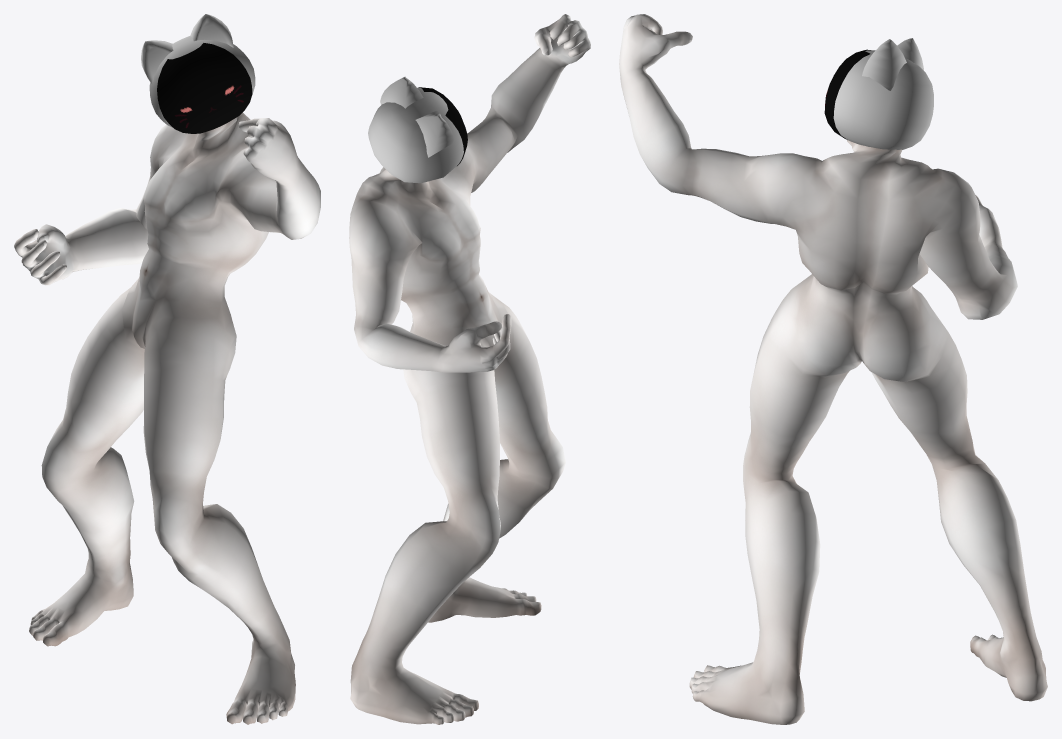
The picture shows the model from 3 angles, left to right: view 1: azimuth 30°, elevation 25°; view 2: azimuth 150°, elevation 25°; view 3: azimuth 270°, elevation 25°; orthographic projection. The views are drawn at different scales.
Visible parts, largest first — view 1: Muscle_Body, ______?001, Cat_Head; view 2: Muscle_Body, Cat_Head, ______?001; view 3: Muscle_Body, Cat_Head, ______?001.
Part boxes in pixels (x1,y1,x2,y2): Muscle_Body: [14, 112, 320, 724]; ______?001: [157, 43, 252, 133]; Cat_Head: [141, 14, 255, 127]; Muscle_Body: [349, 14, 590, 724]; Cat_Head: [368, 76, 463, 183]; ______?001: [418, 87, 467, 165]; Muscle_Body: [619, 14, 1047, 724]; Cat_Head: [833, 38, 933, 149]; ______?001: [824, 49, 870, 139].
Bounding box in the file's own units: 9.04 × 27.03 × 15.62.
